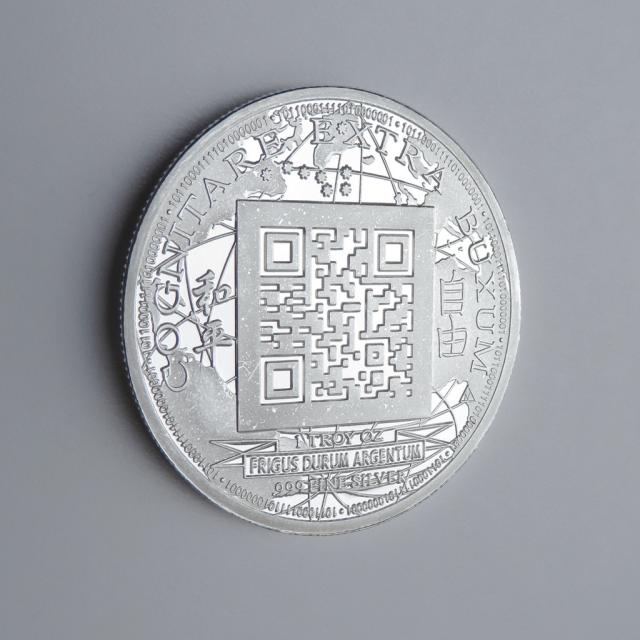Coin: (116, 84, 523, 538)
